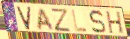A: (37, 7, 55, 31)
H: (106, 11, 125, 36)
L: (71, 9, 89, 33)
S: (88, 9, 107, 35)
V: (16, 6, 32, 31)
Z: (50, 7, 72, 33)
